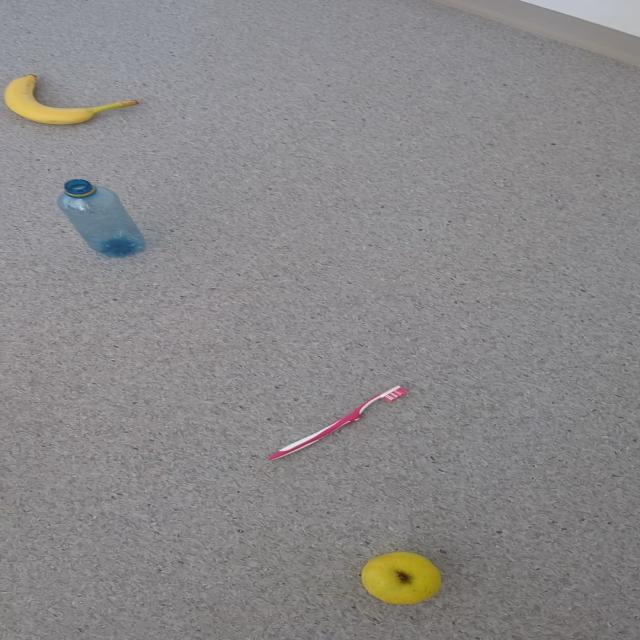apple: (359, 551, 442, 605)
banana: (3, 74, 139, 125)
bottle: (56, 178, 146, 258)
toothbrush: (266, 385, 408, 461)
